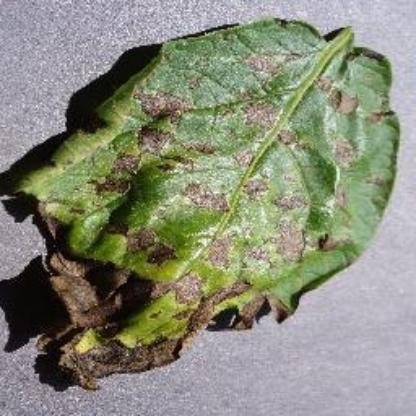Early-Blight: (12, 13, 398, 392)
